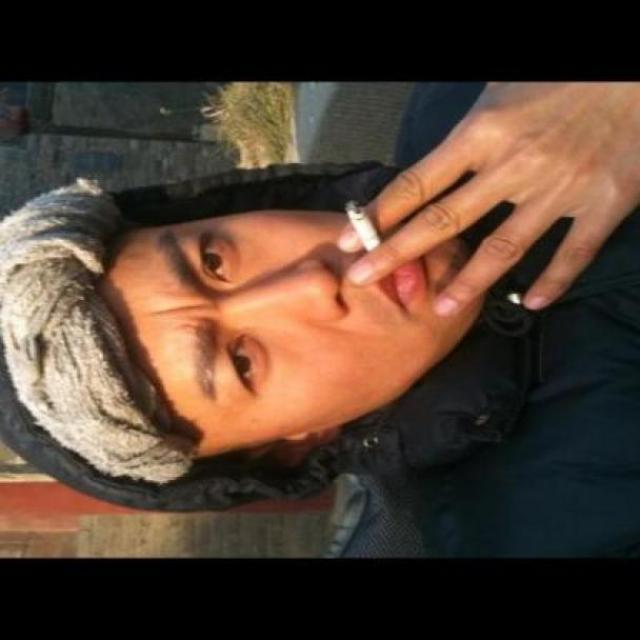rokok: (343, 192, 383, 250)
